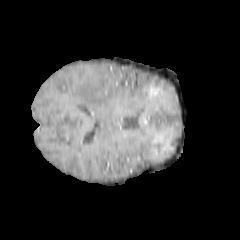glioma: (66, 76, 125, 112)
